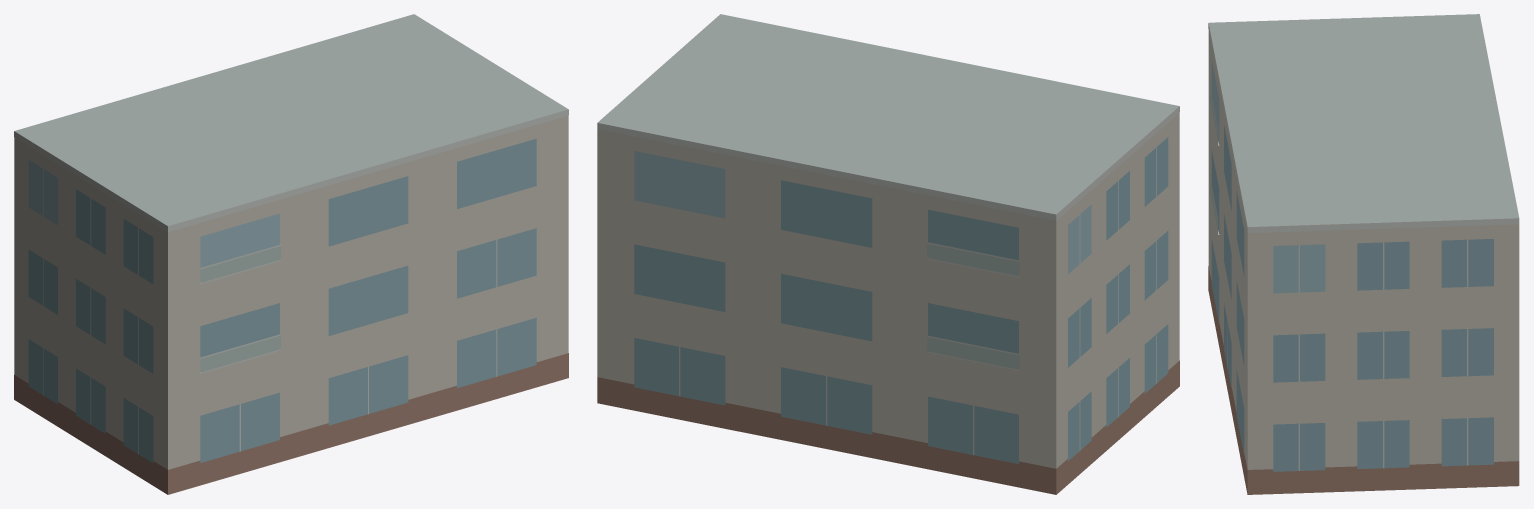
The model's file is survey-upis-32984893.glb.
The picture shows the model from 3 angles, left to right: view 1: azimuth 30°, elevation 25°; view 2: azimuth 150°, elevation 25°; view 3: azimuth 270°, elevation 25°; orthographic projection. The views are drawn at different scales.
Visible parts, largest first — view 1: survey-upis-32984893.tmp; view 2: survey-upis-32984893.tmp; view 3: survey-upis-32984893.tmp.
Part boxes in pixels (box(x1,y1,x2,y2)): survey-upis-32984893.tmp: box(14, 14, 568, 494); survey-upis-32984893.tmp: box(597, 14, 1179, 494); survey-upis-32984893.tmp: box(1208, 14, 1519, 494).
Size of the model in its own units: 18.36 by 10.75 by 11.32.
